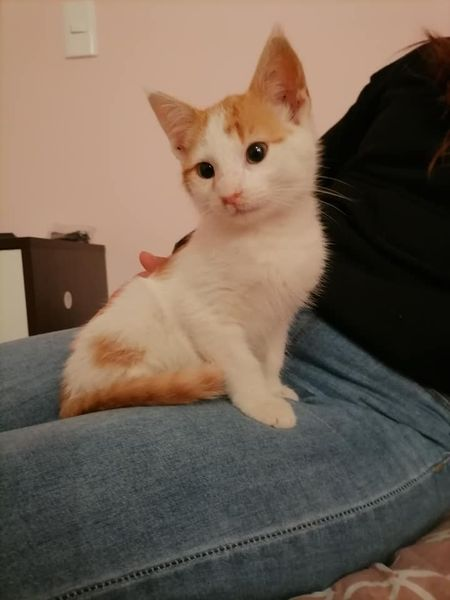cat: (46, 14, 350, 453)
